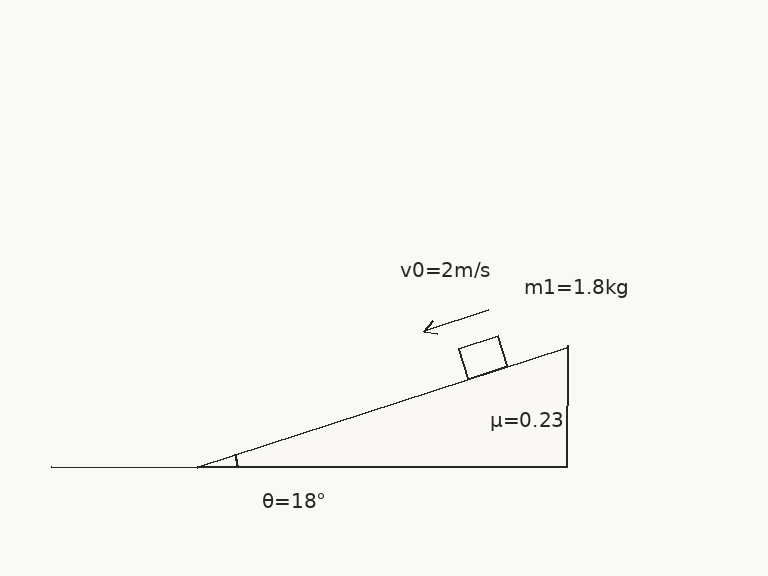block: (456, 334, 509, 380)
ramp: (195, 344, 568, 468)
